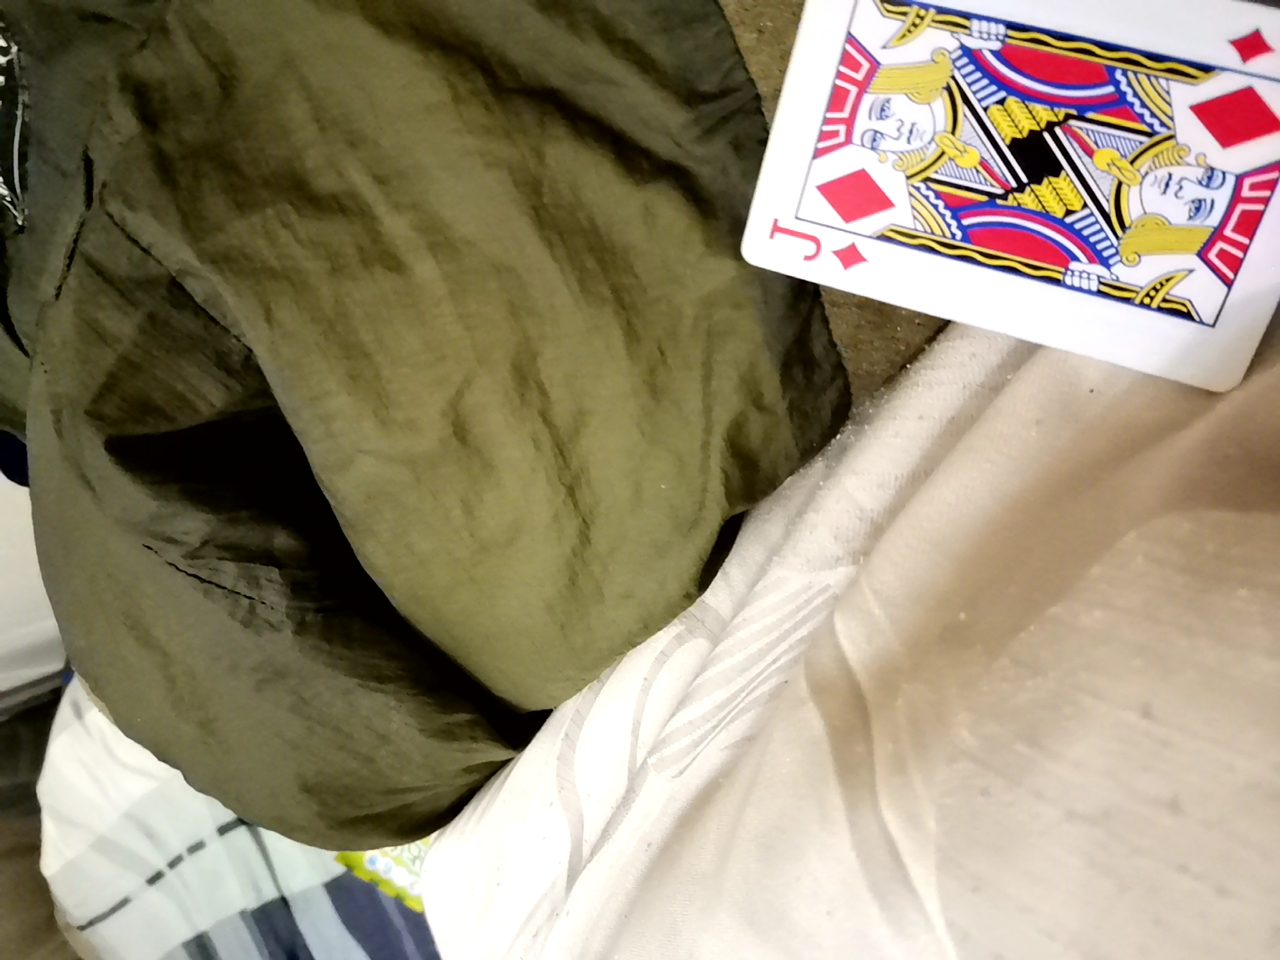fk j: (798, 8, 1277, 391)
